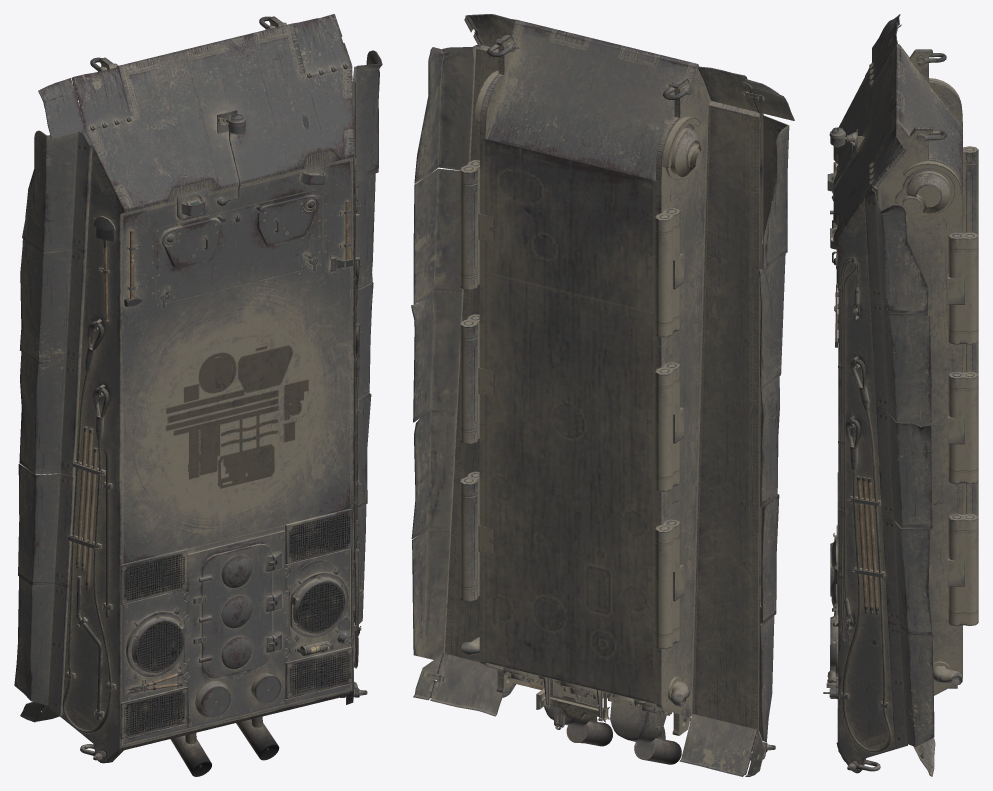
The model's file is Hull.glb.
The picture shows the model from 3 angles, left to right: view 1: azimuth 30°, elevation 25°; view 2: azimuth 150°, elevation 25°; view 3: azimuth 270°, elevation 25°; orthographic projection. The views are drawn at different scales.
Parts seen in each view (by area): view 1: set_0_group_0; view 2: set_0_group_0; view 3: set_0_group_0.
Boxes of the visible parts, x1,y1,x2,y2 form: set_0_group_0: (14,14,382,776); set_0_group_0: (411,14,794,776); set_0_group_0: (823,14,978,776).
Size of the model in its own units: 3.83 by 7.56 by 1.61.
1 material, 1 textured.
